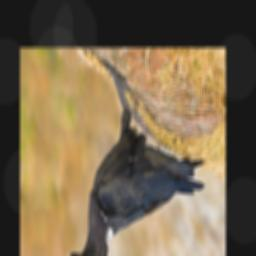Crow: (66, 58, 205, 256)
